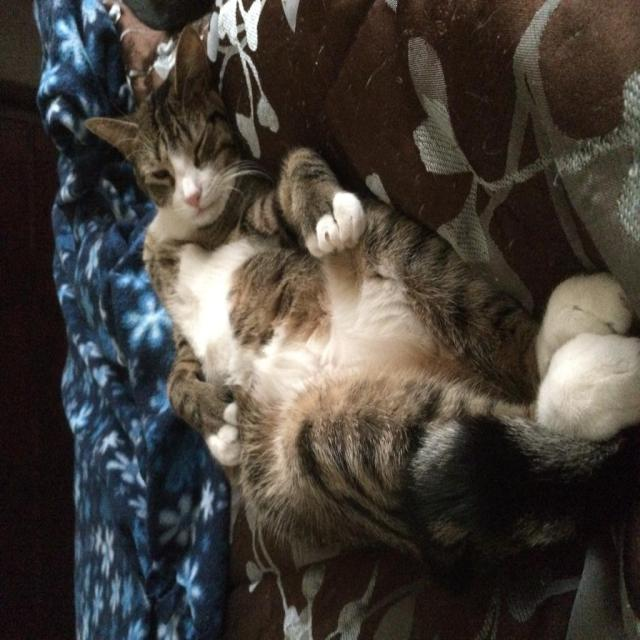Cat: (85, 20, 639, 542)
